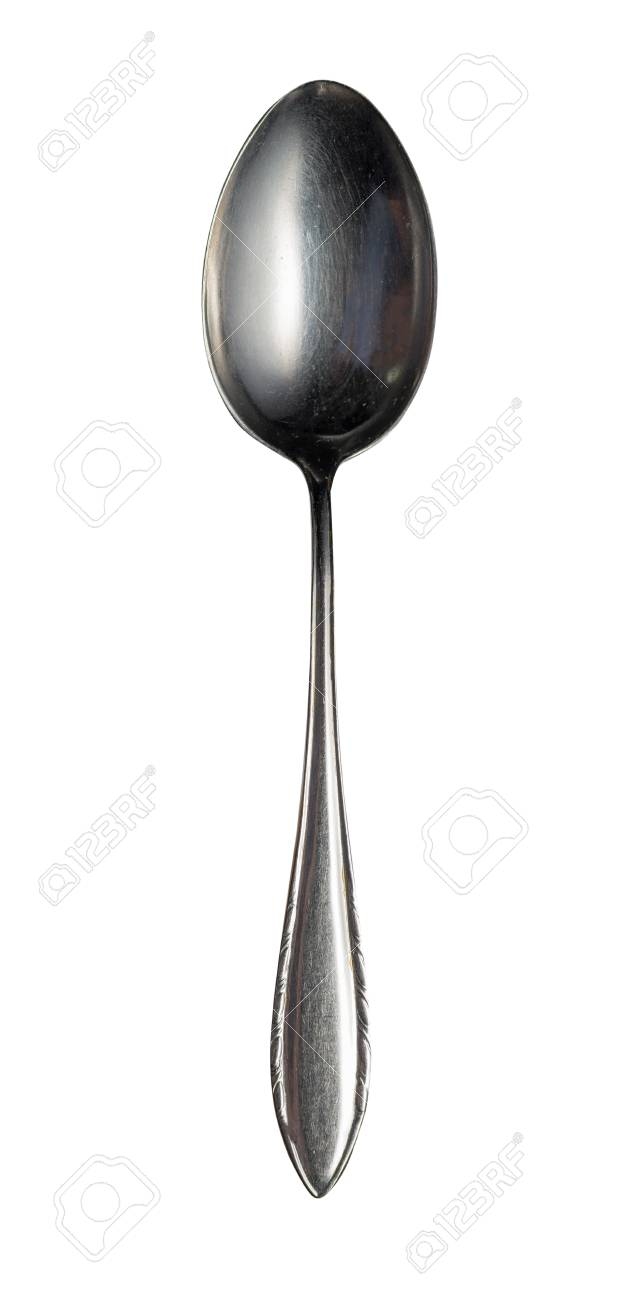metal: (201, 78, 443, 1199)
